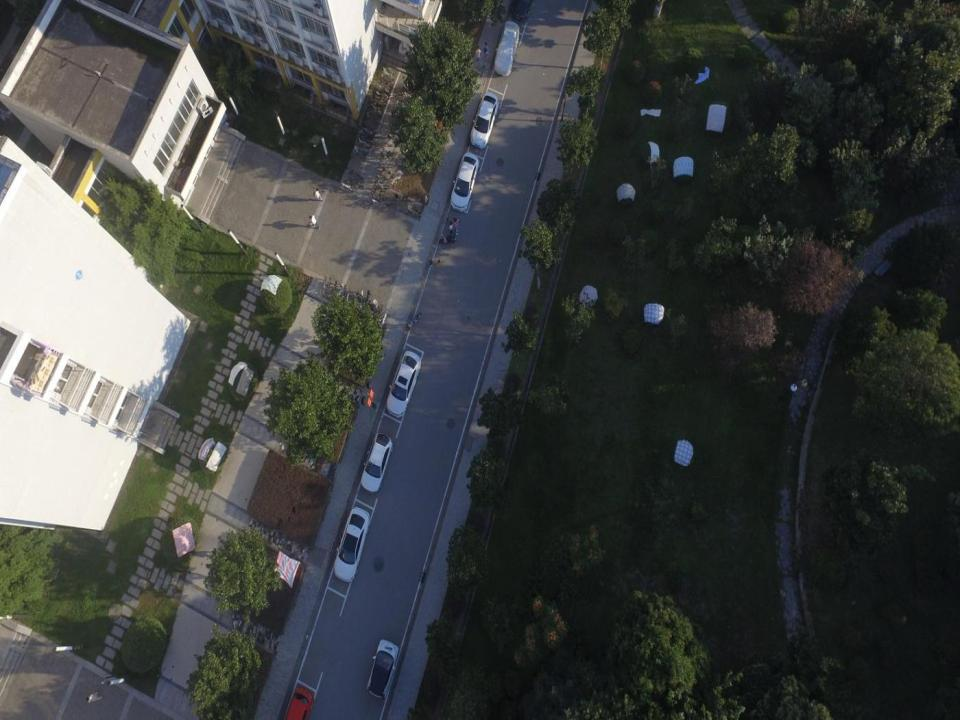car: (332, 506, 371, 581), (384, 349, 422, 415), (365, 638, 400, 699), (359, 431, 393, 491), (450, 151, 478, 212), (470, 92, 499, 149), (494, 18, 519, 78)
